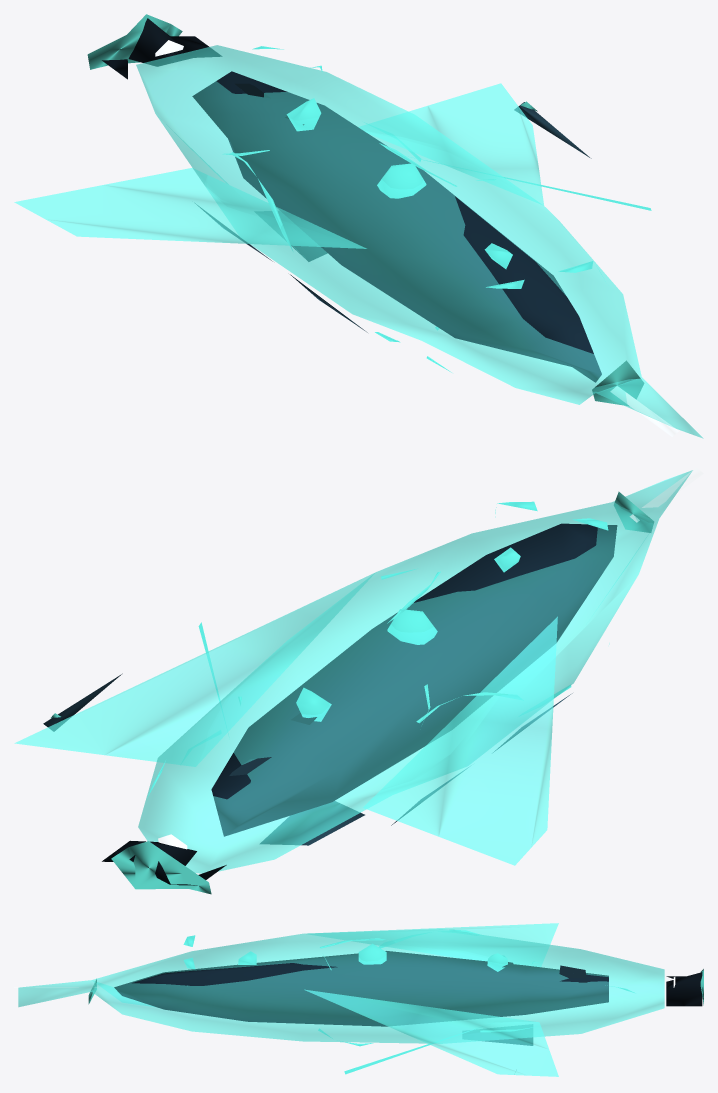
The model's file is refleks-swietlisci-trade-70-lod2.glb.
3 renders of one model, top to bottom at view 1: azimuth 30°, elevation 25°; view 2: azimuth 150°, elevation 25°; view 3: azimuth 270°, elevation 25°, orthographic. The views are drawn at different scales.
Size of the model in its own units: 10.05 by 3.03 by 19.
